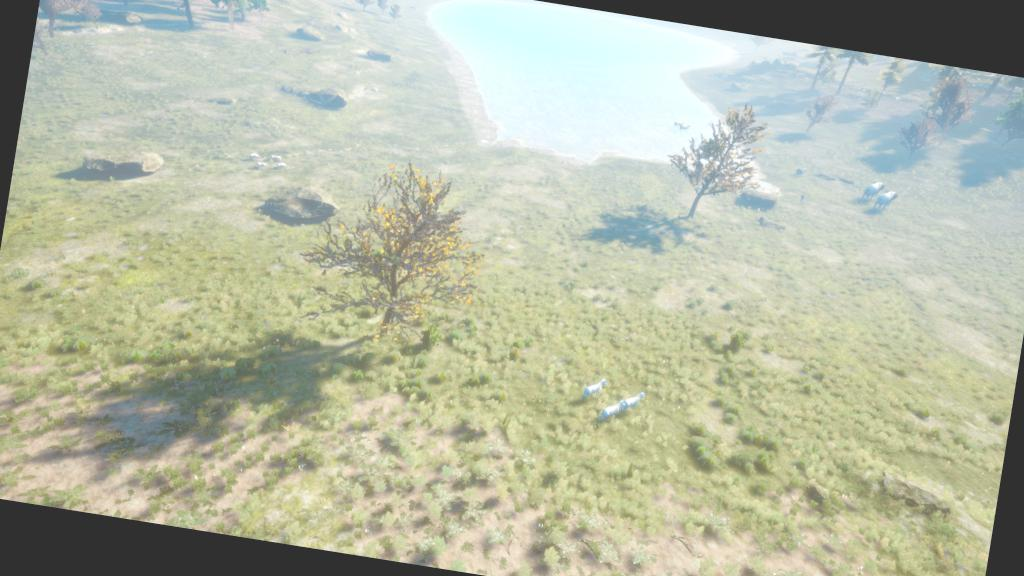elephant: (866, 182, 904, 220), (856, 171, 888, 206)
zebra: (556, 361, 614, 410), (592, 390, 632, 436), (619, 389, 652, 423)
